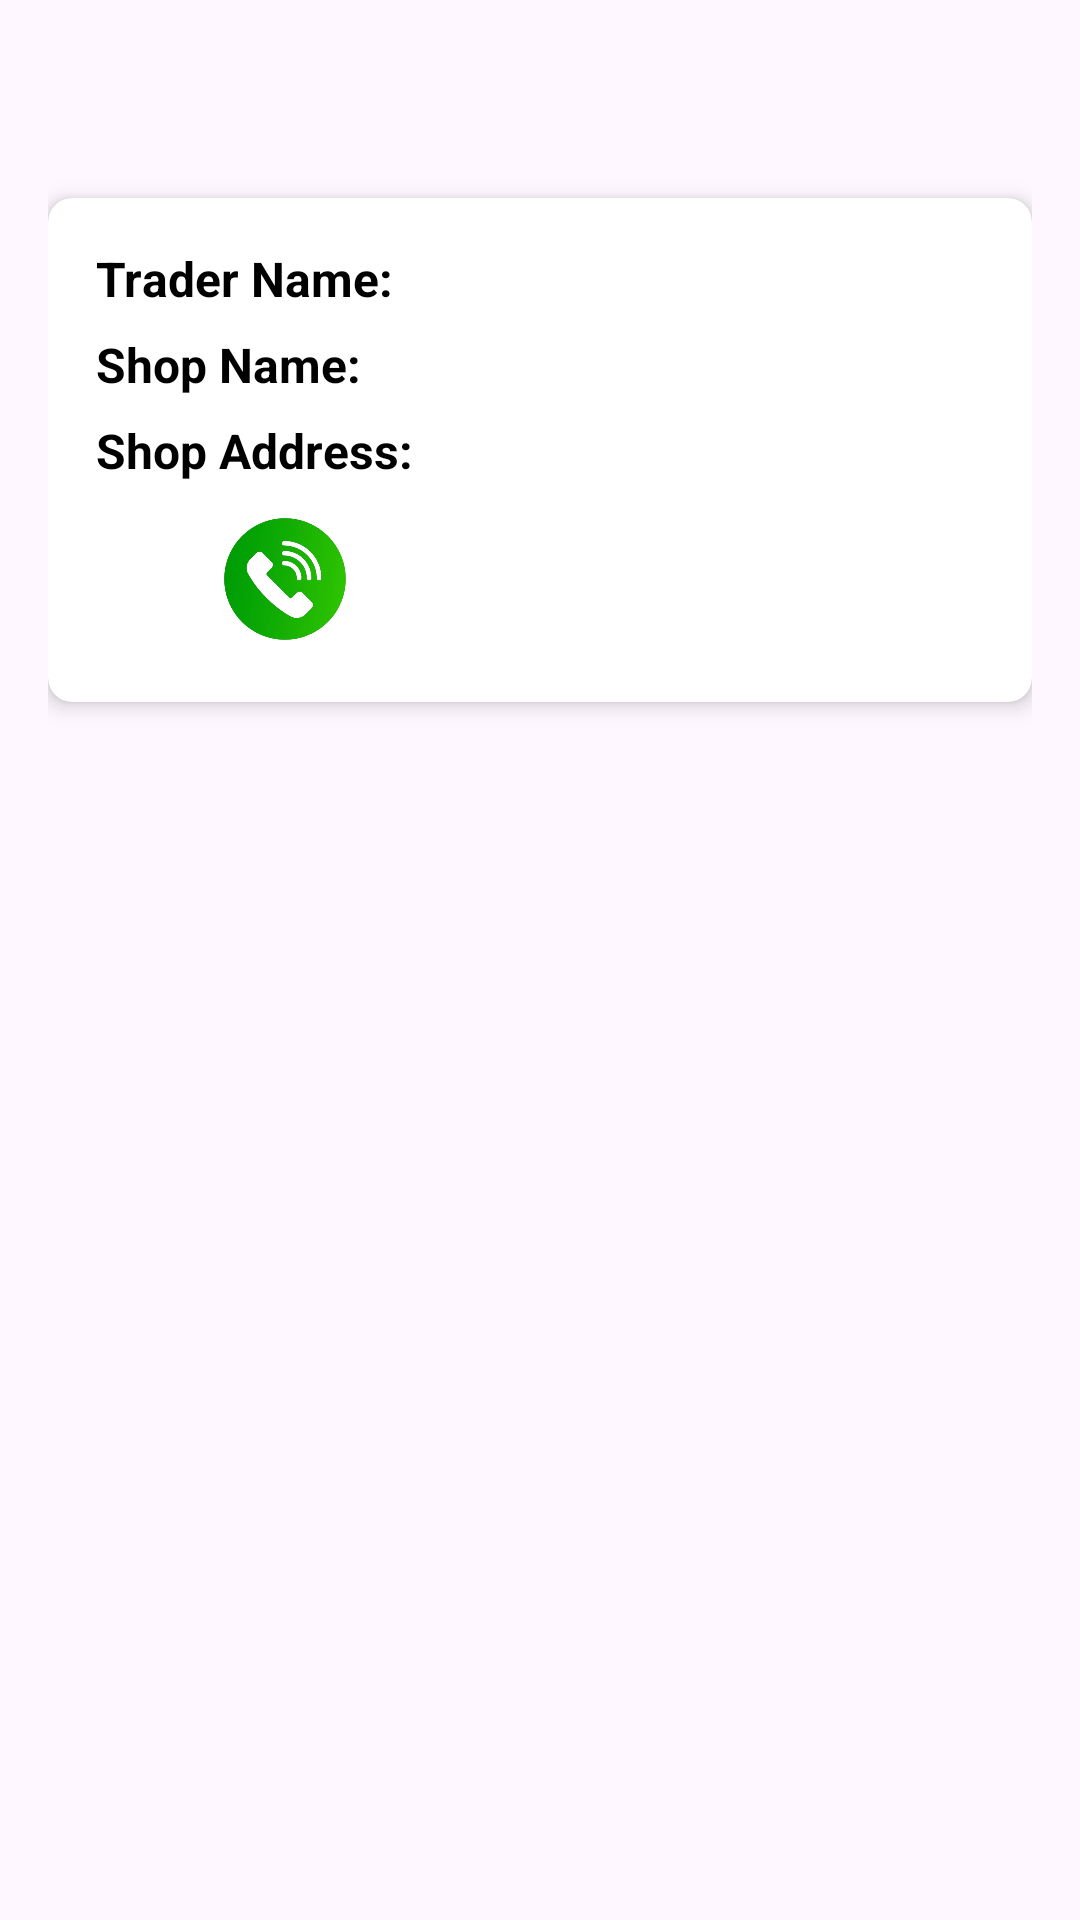

Icons on this 1080w x 1920h Android screen, each with its box as (x1, y1, x2, y2):
Call Icon: (224, 518, 346, 640)
